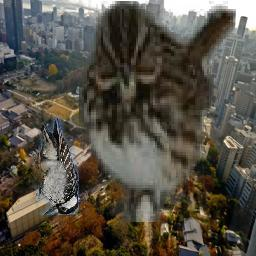Sparrow: (80, 2, 237, 223)
Woodpecker: (25, 117, 79, 215)
